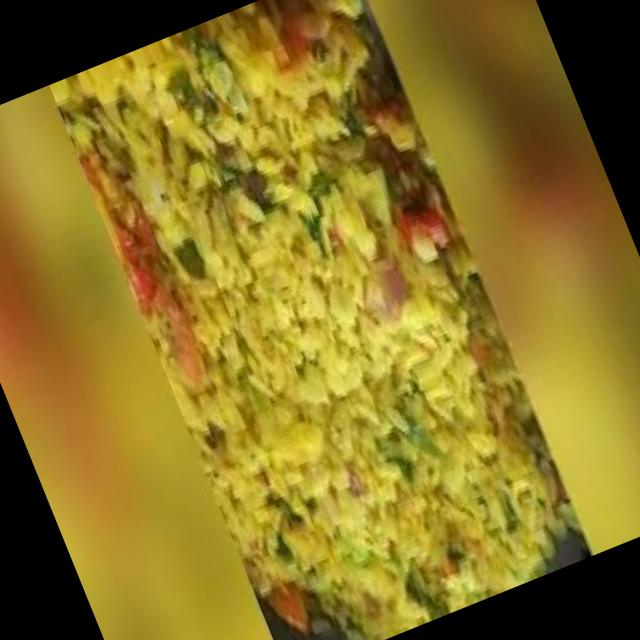poha: (47, 0, 592, 640)
